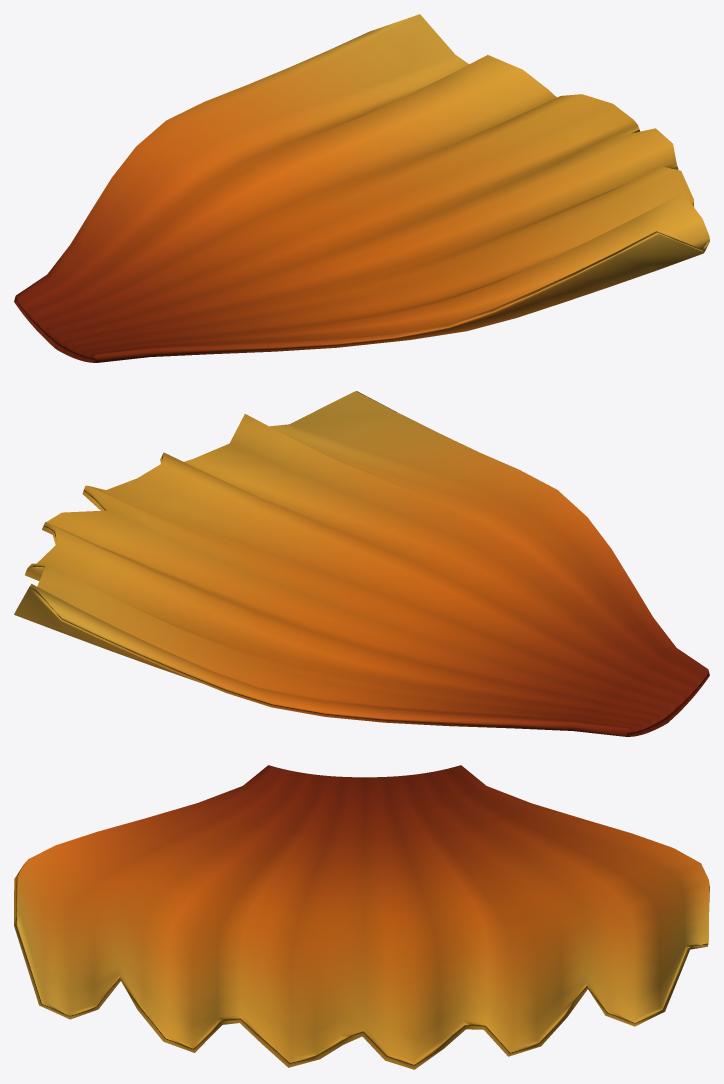
The model's file is flower_petal_quaternius.glb.
3 renders of one model, top to bottom at view 1: azimuth 30°, elevation 25°; view 2: azimuth 150°, elevation 25°; view 3: azimuth 270°, elevation 25°, orthographic. The views are drawn at different scales.
Visible parts, largest first — view 1: flower_petal_quaternius; view 2: flower_petal_quaternius; view 3: flower_petal_quaternius.
Boxes of the visible parts, box(x1,y1,x2,y2) form: flower_petal_quaternius: box(14, 14, 709, 362); flower_petal_quaternius: box(14, 391, 709, 736); flower_petal_quaternius: box(14, 765, 709, 1069).
Size of the model in its own units: 0.2575 by 0.0474 by 0.2173.
